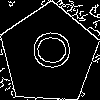O: (24, 29, 71, 71)
